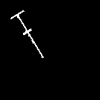double_crochet: (11, 11, 42, 57)
